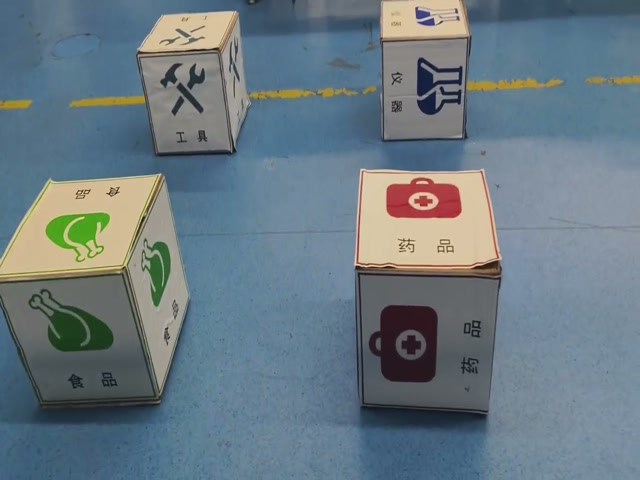Cube_food: (2, 172, 164, 282)
Cube_ins: (377, 0, 471, 44)
Cube_medicine: (351, 165, 505, 280), (139, 9, 235, 60)
